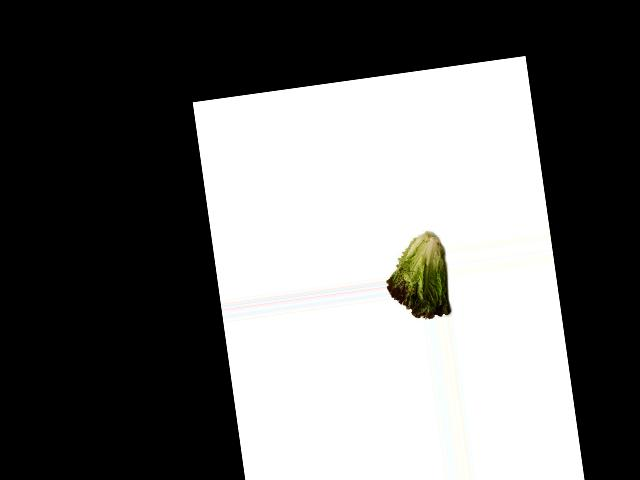lettuce: (381, 231, 452, 325)
